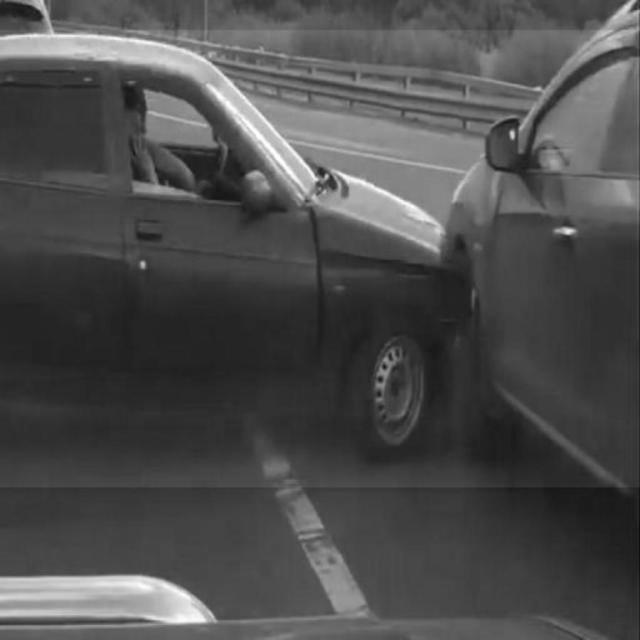accident: (0, 31, 640, 488)
